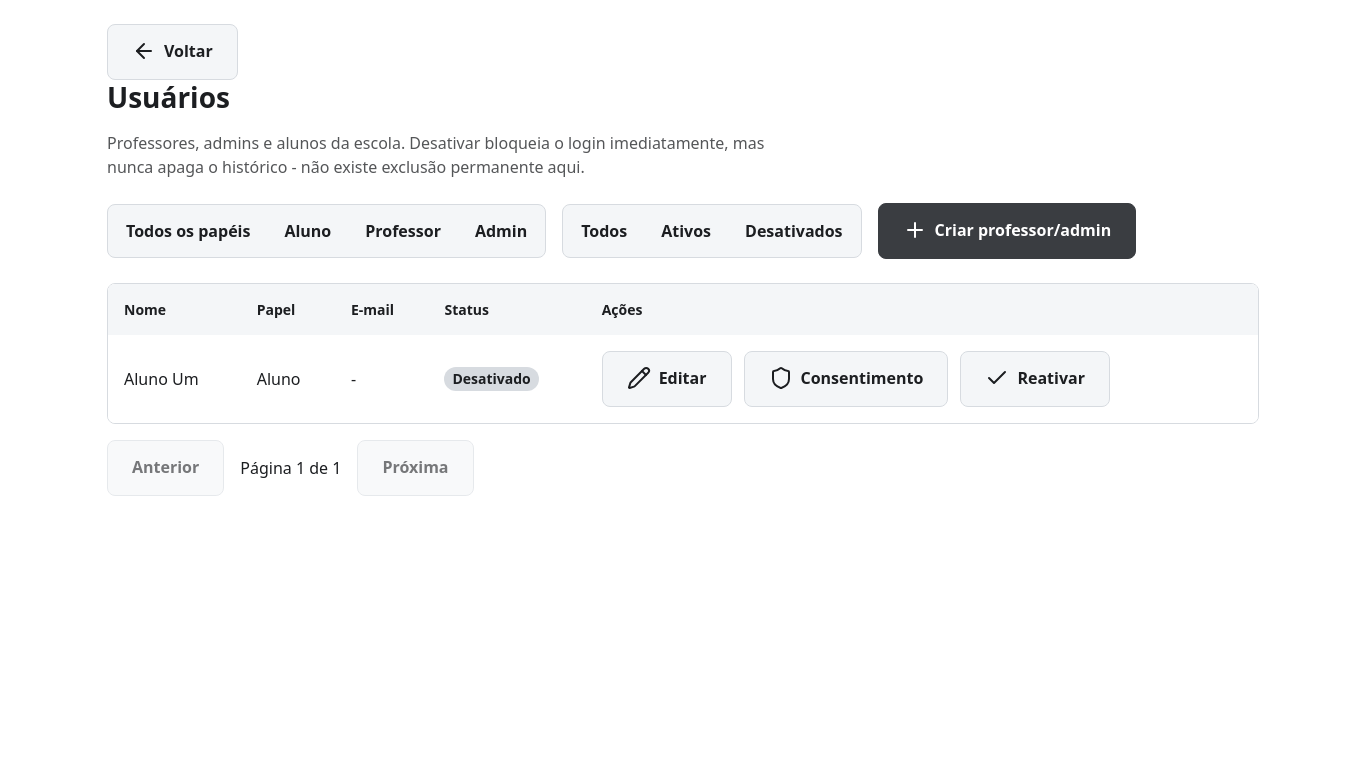
Test: AdminUsers › editing a student never exposes email/role fields (credential follows flow 1.3)
Expected: the text "Aluno Um" is shown, [108, 335, 241, 423]
Click the button "Editar".
click(667, 379)  # box [602, 351, 732, 407]
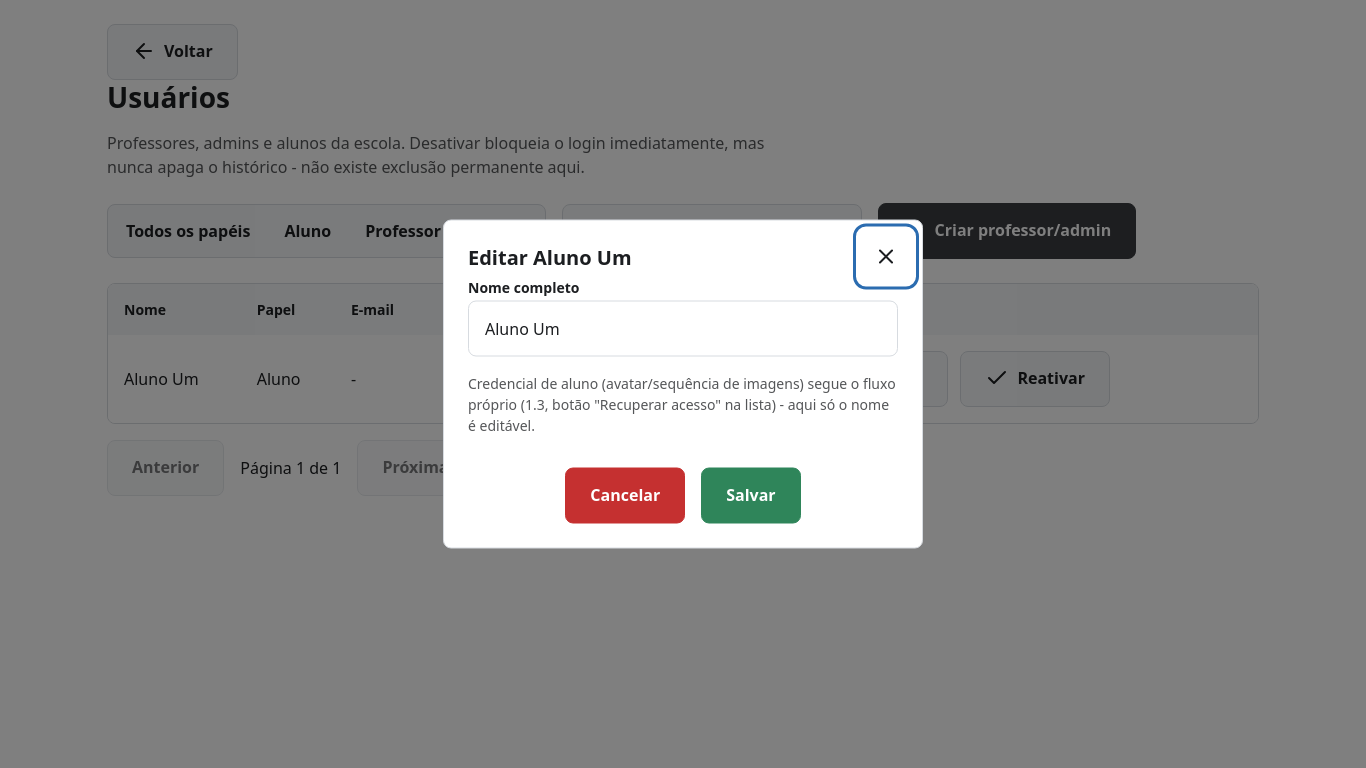
Now the field labelled "Nome completo" is shown, box [468, 300, 898, 356]
